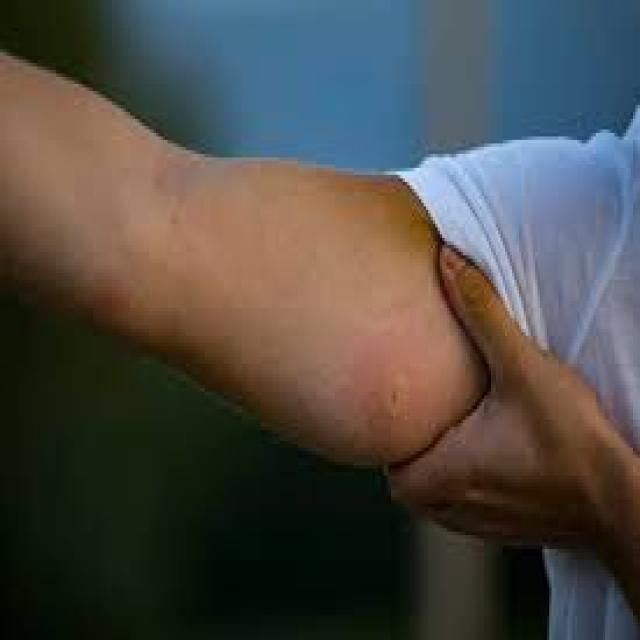kene: (353, 339, 440, 432)
